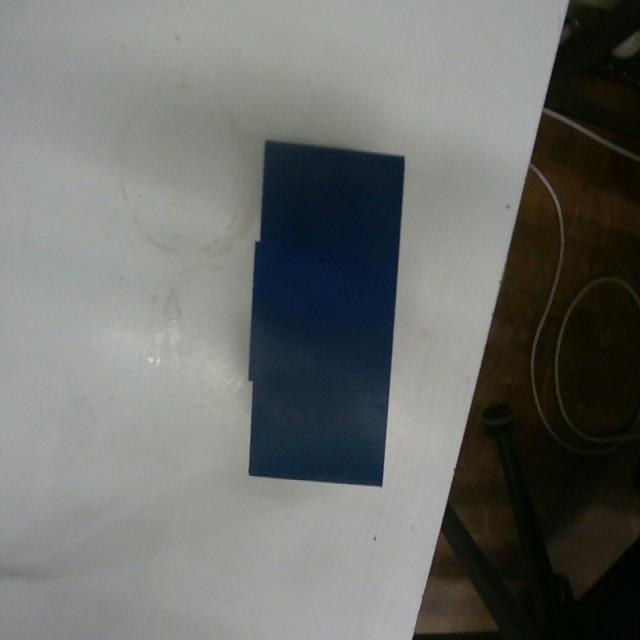Blue Cuboid: (245, 135, 406, 489)
